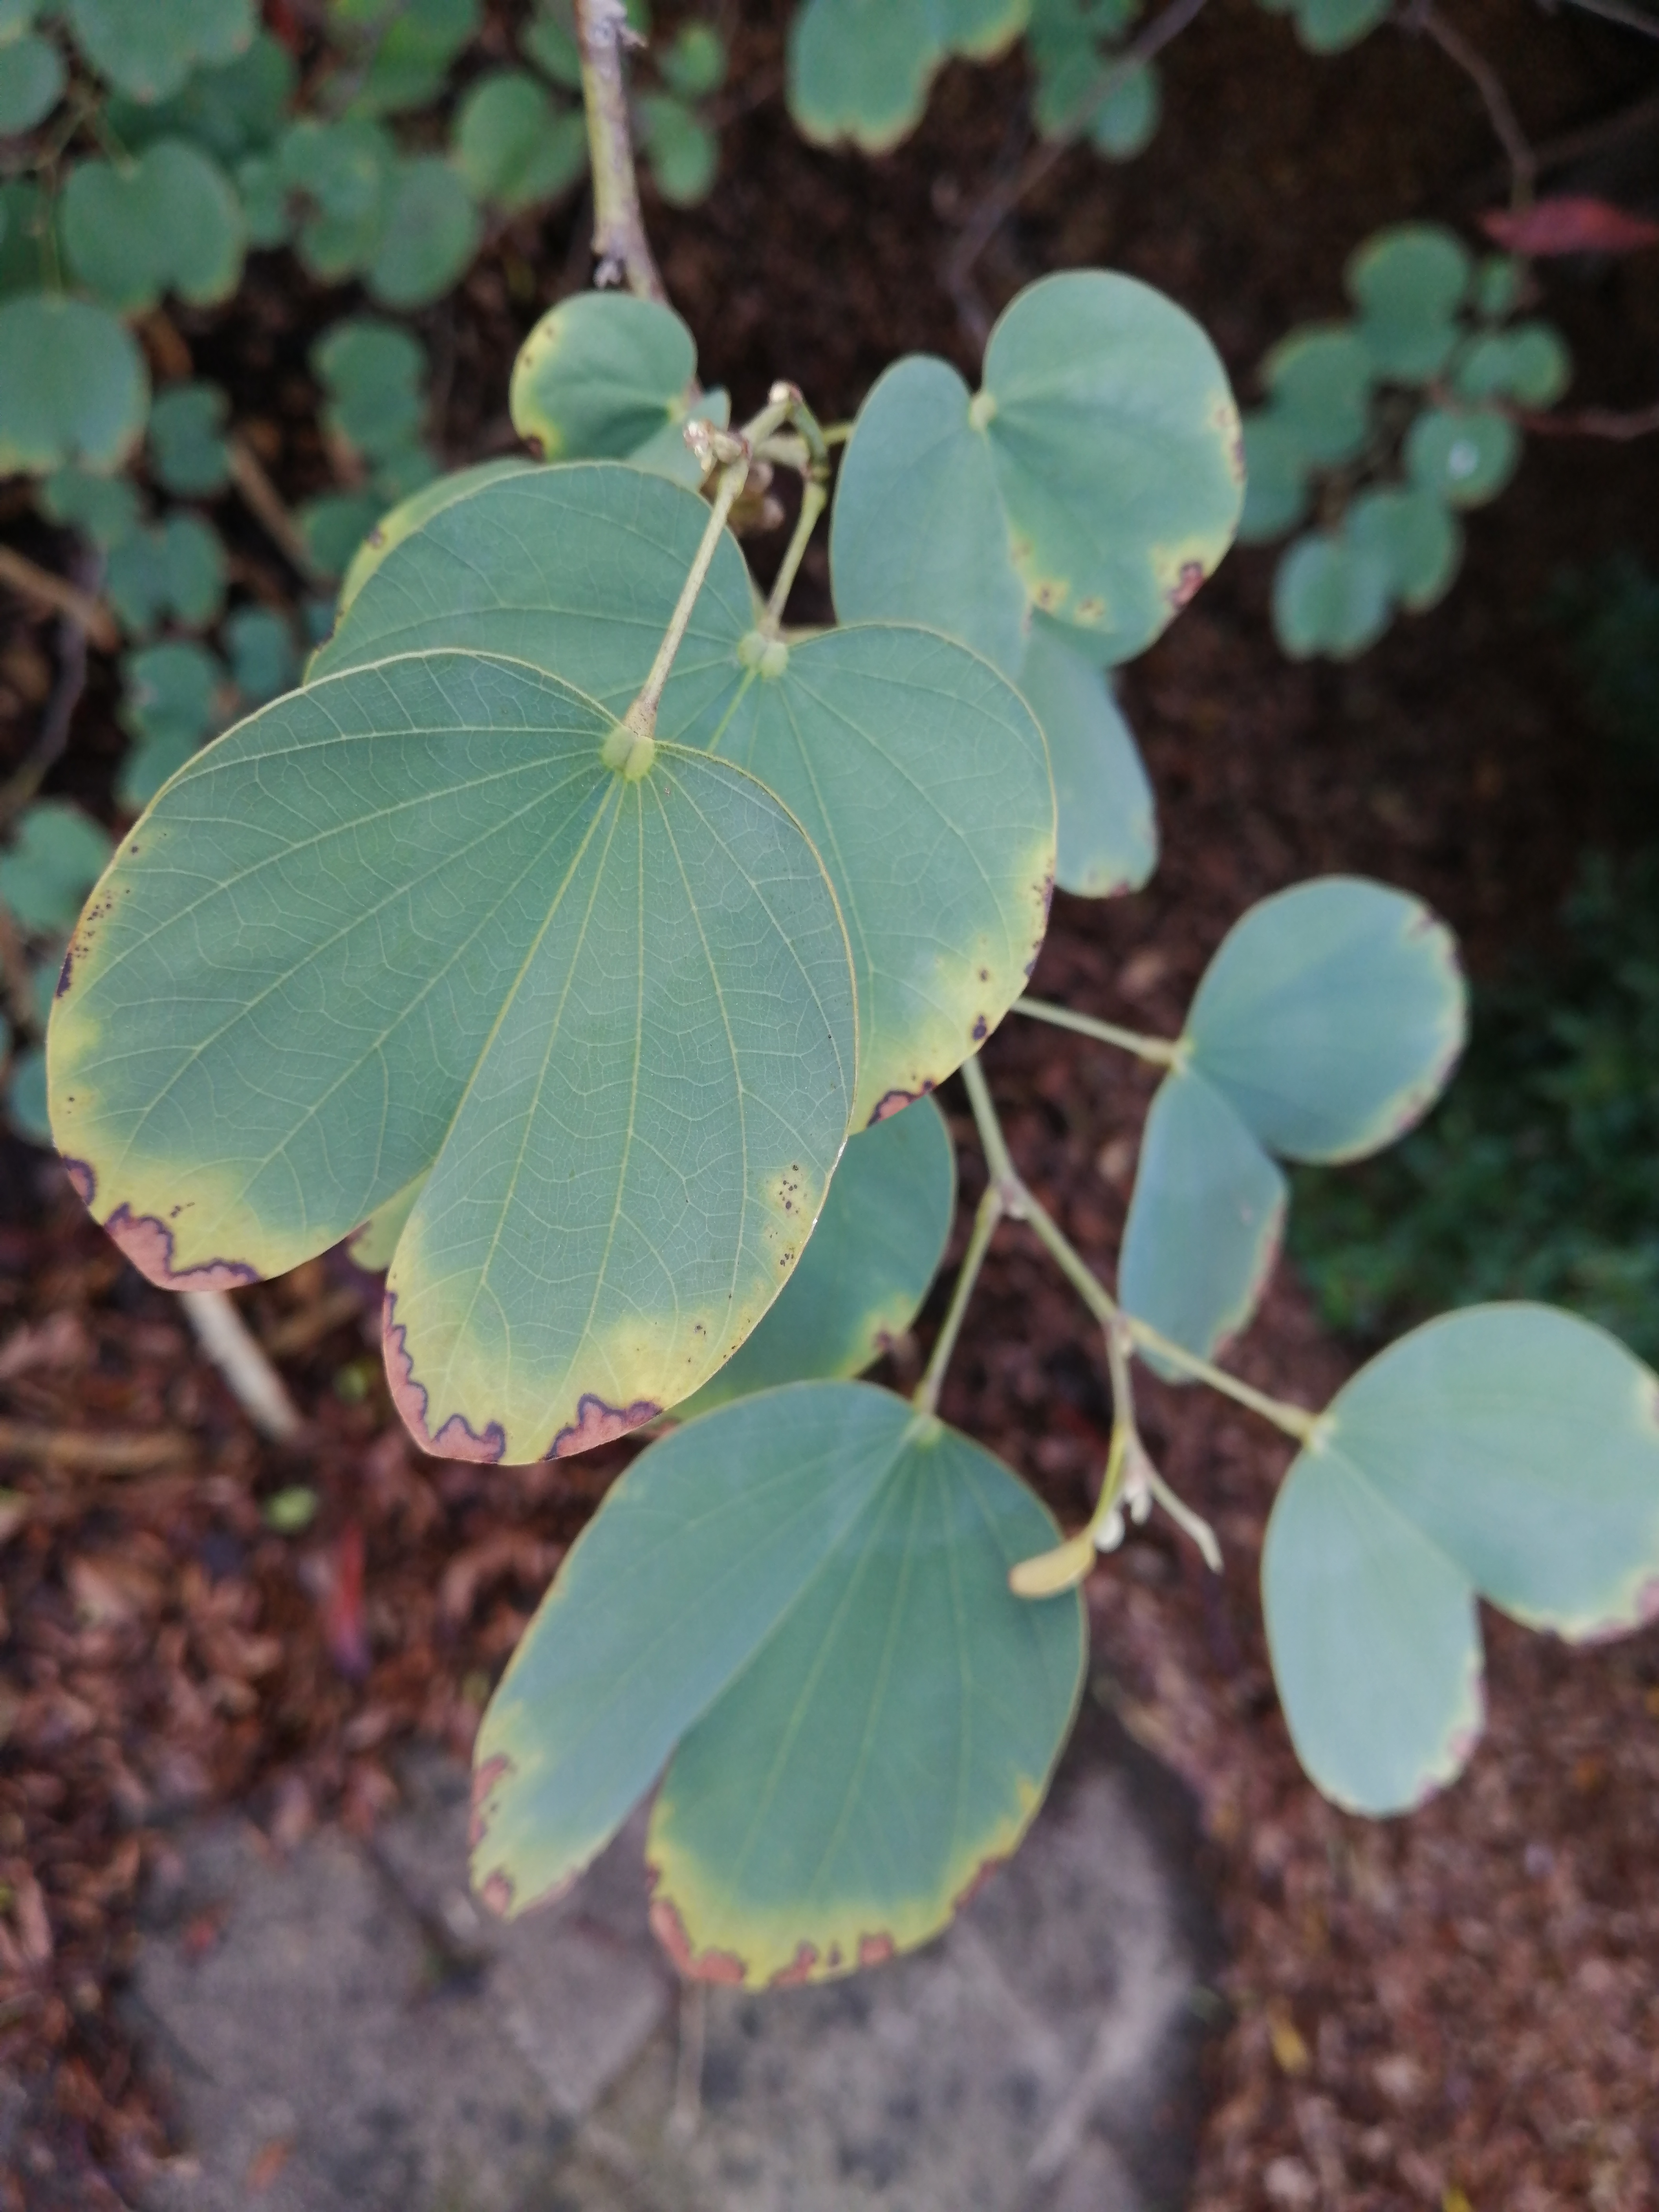nothealthy: (28, 634, 1014, 1507), (369, 1406, 1169, 2017)
